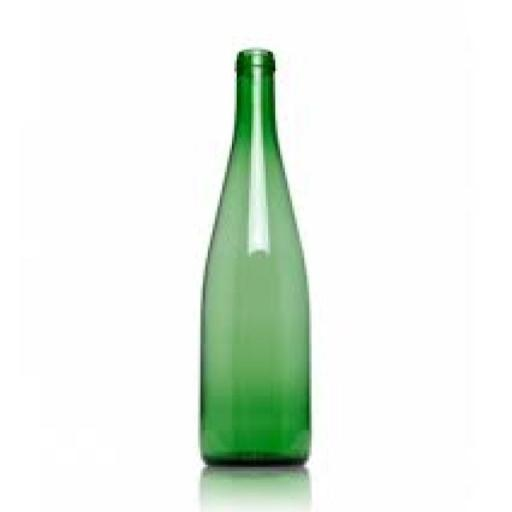glass: (189, 41, 324, 476)
